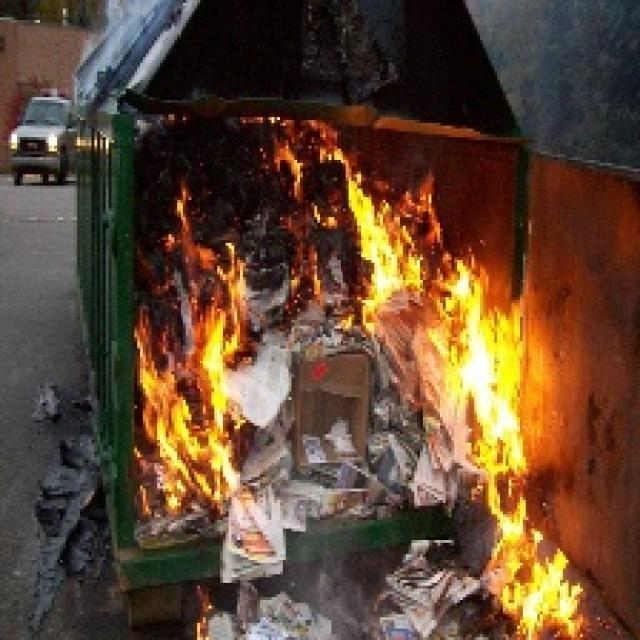fire: (136, 329, 236, 504), (491, 477, 584, 639), (461, 270, 528, 471), (348, 178, 439, 290)
